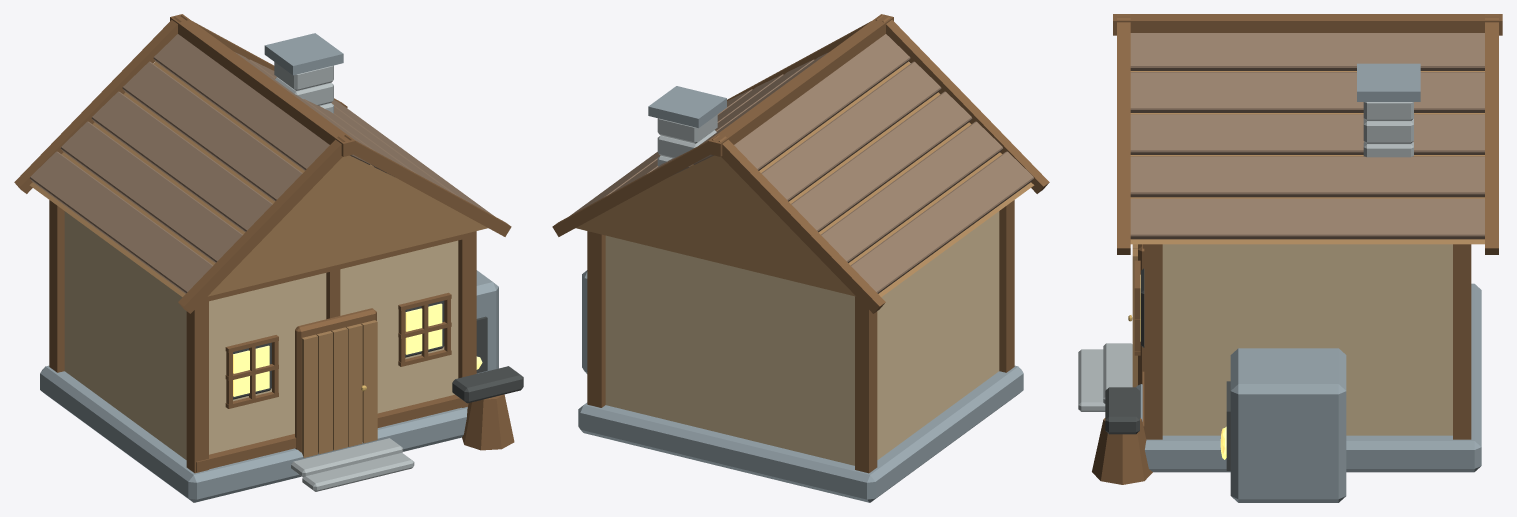
File: Forge.glb
The picture shows the model from 3 angles, left to right: view 1: azimuth 30°, elevation 25°; view 2: azimuth 150°, elevation 25°; view 3: azimuth 270°, elevation 25°; orthographic projection. The views are drawn at different scales.
Parts seen in each view (by area): view 1: PlasterWalls, Gable, StoneFoundation, Ridge, GableTrim, CornerPost, CrossTimber, GableTrim.001, CornerPost.002, CornerPost.001, GableTrim.002, AnvilBase (+48 smaller); view 2: PlasterWalls, Gable, StoneFoundation, Ridge, GableTrim.001, CornerPost.002, CornerPost.003, GableTrim, CornerPost, GableTrim.003, ChimneyCap, RoofShingle.009 (+33 smaller); view 3: PlasterWalls, Forge, StoneFoundation, Ridge, Gable, CornerPost.003, CornerPost.001, GableTrim.002, GableTrim.003, AnvilBase, RoofShingle.055, RoofShingle.049 (+35 smaller).
Part boxes in pixels (x1,y1,x2,y2): PlasterWalls: [64, 211, 458, 459]; Gable: [29, 61, 487, 296]; StoneFoundation: [40, 365, 467, 502]; Ridge: [170, 14, 355, 156]; GableTrim: [178, 136, 345, 313]; CornerPost: [186, 301, 208, 473]; CrossTimber: [196, 394, 468, 472]; GableTrim.001: [14, 16, 181, 193]; CornerPost.002: [49, 200, 64, 372]; CornerPost.001: [458, 231, 476, 407]; GableTrim.002: [344, 135, 511, 236]; AnvilBase: [462, 394, 514, 450]; PlasterWalls: [605, 211, 999, 465]; Gable: [575, 61, 1034, 297]; StoneFoundation: [578, 365, 1023, 502]; Ridge: [708, 14, 893, 156]; GableTrim.001: [718, 136, 885, 313]; CornerPost.002: [855, 296, 877, 473]; CornerPost.003: [587, 231, 605, 407]; GableTrim: [882, 17, 1049, 193]; CornerPost: [999, 200, 1014, 372]; GableTrim.003: [552, 135, 719, 236]; ChimneyCap: [648, 86, 726, 128]; RoofShingle.009: [809, 119, 862, 168]; PlasterWalls: [1162, 244, 1452, 435]; Forge: [1230, 348, 1346, 502]; StoneFoundation: [1136, 283, 1481, 472]; Ridge: [1113, 14, 1502, 35]; Gable: [1130, 71, 1484, 244]; CornerPost.003: [1453, 244, 1471, 439]; CornerPost.001: [1144, 244, 1162, 439]; GableTrim.002: [1117, 18, 1130, 254]; GableTrim.003: [1485, 18, 1498, 254]; AnvilBase: [1092, 418, 1152, 484]; RoofShingle.055: [1188, 198, 1248, 239]; RoofShingle.049: [1188, 156, 1248, 197].
Size of the model in its own units: 12.41 by 10.79 by 11.
